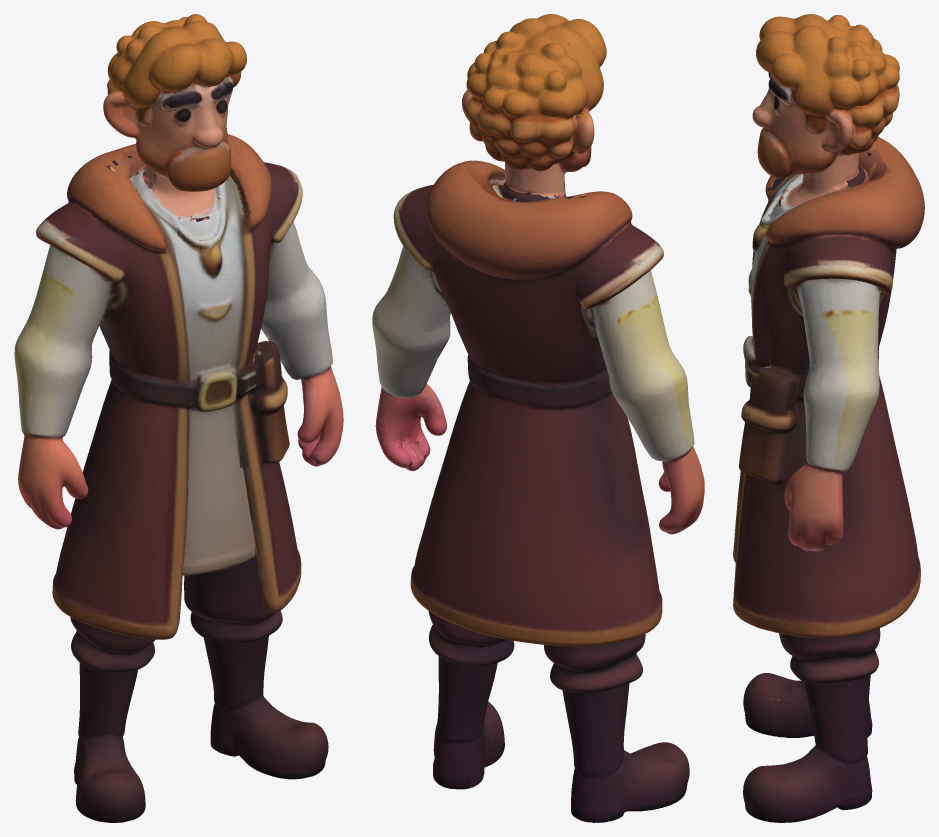
File: navigator.glb
3 renders of one model, left to right at view 1: azimuth 30°, elevation 25°; view 2: azimuth 150°, elevation 25°; view 3: azimuth 270°, elevation 25°, orthographic. The views are drawn at different scales.
Parts seen in each view (by area): view 1: world_0; view 2: world_0; view 3: world_0.
Boxes of the visible parts, x1,y1,x2,y2 form: world_0: [14, 14, 343, 822]; world_0: [372, 14, 704, 822]; world_0: [733, 14, 924, 822].
Size of the model in its own units: 0.8763 by 1.99 by 0.4651.
Materials: 1 (1 with a texture image).
